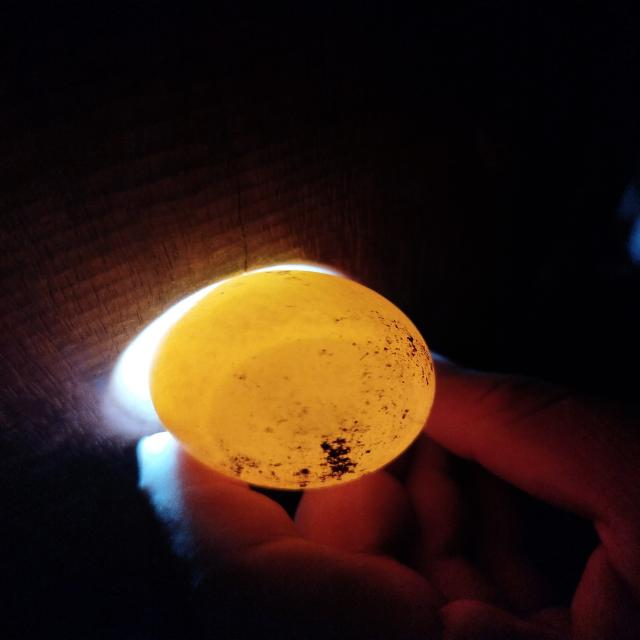Camara de Ar: (209, 335, 376, 462)
